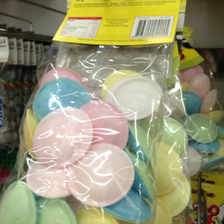candy: (31, 4, 183, 216)
